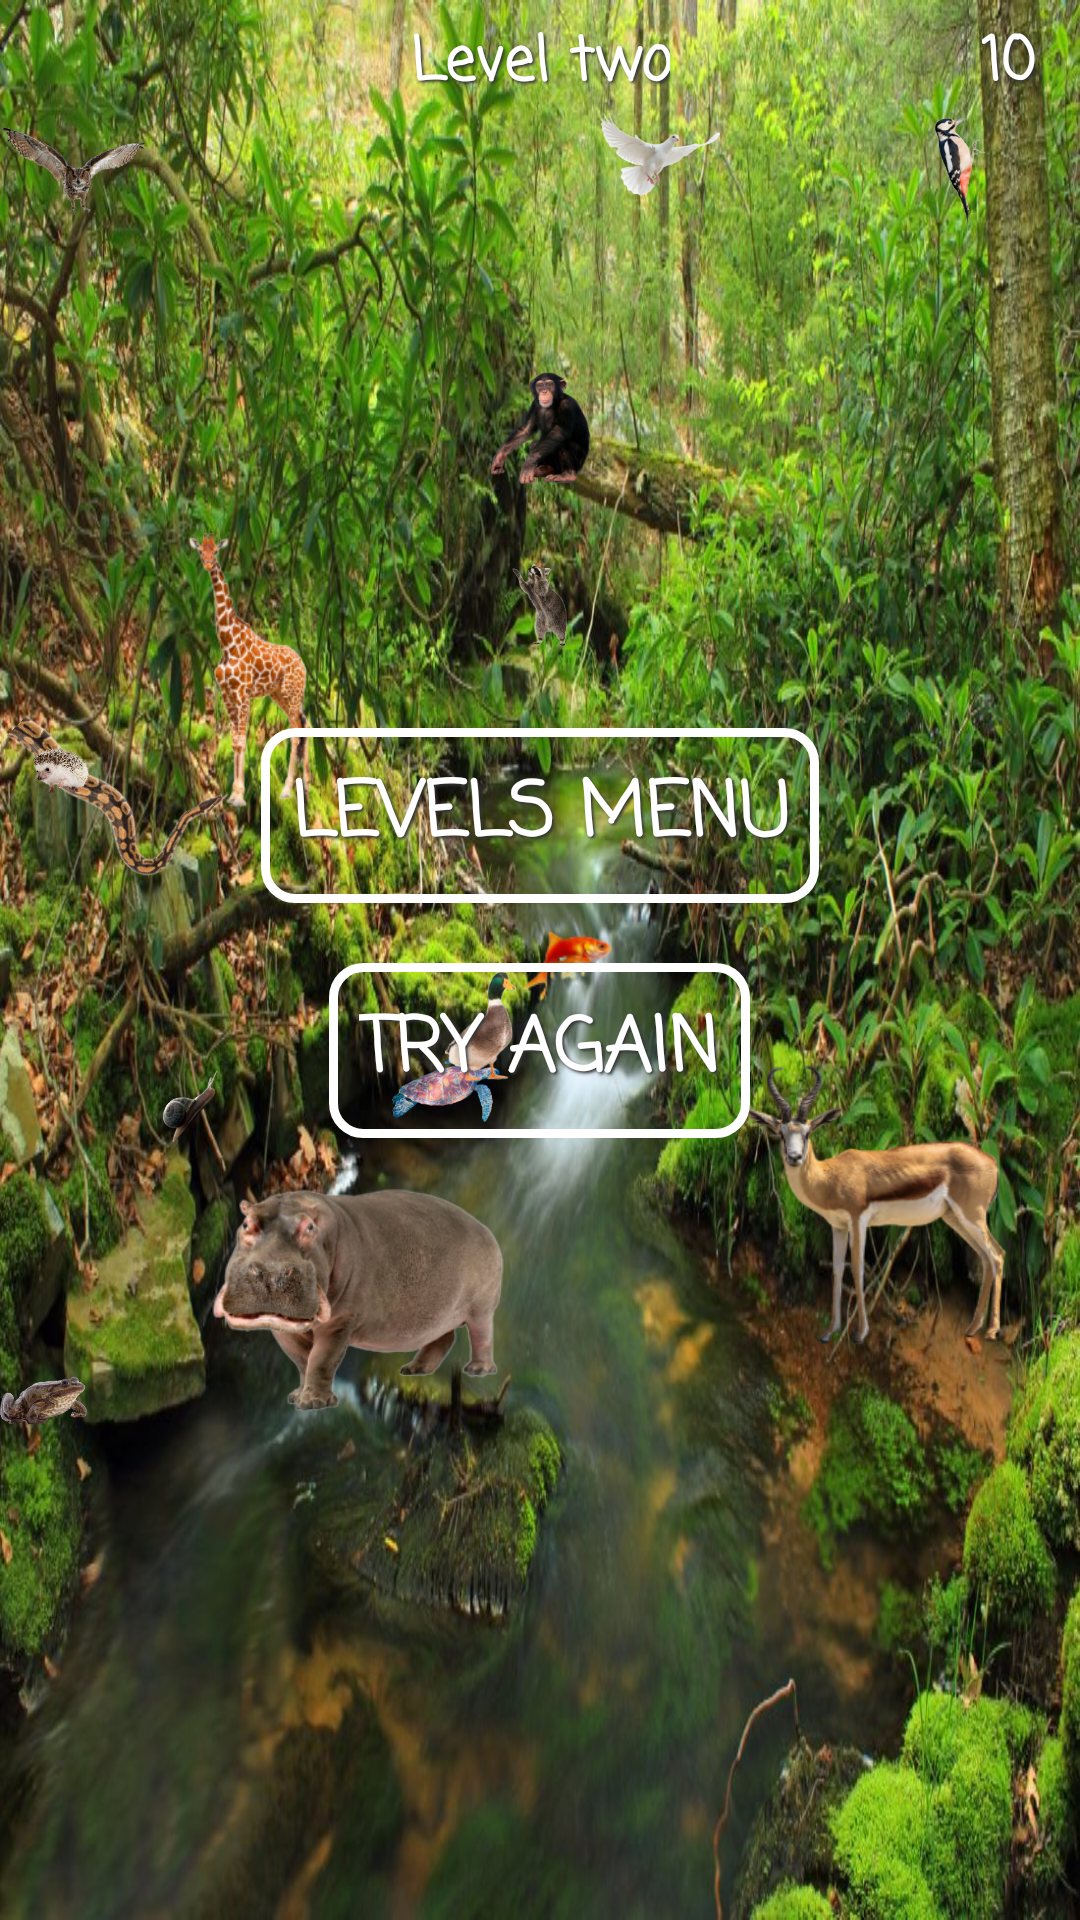

Where to tap for icons on this 1080x1920 app screen, as (x,y):
bird: (660,156)
frog: (45,1401)
gazelle: (885,1206)
giraffe: (255,666)
hippo: (360,1296)
monkey: (540,426)
owl: (75,171)
raccoon: (540,606)
woodpecker: (960,171)
